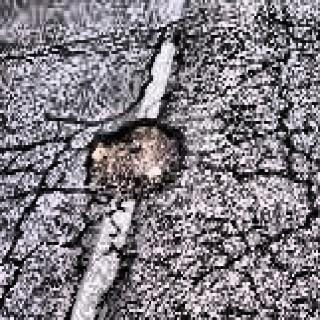alligator-crack: (180, 10, 320, 320), (9, 206, 320, 320), (0, 116, 85, 318)
pothole: (84, 113, 190, 204)
